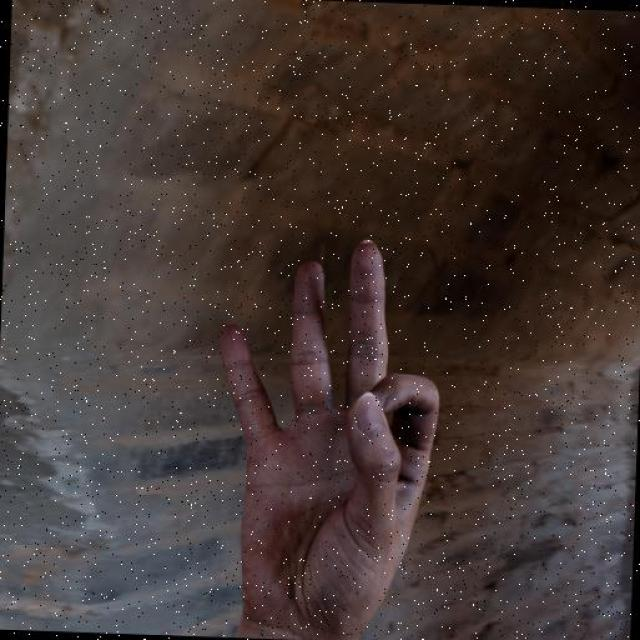F: (203, 228, 448, 636)
